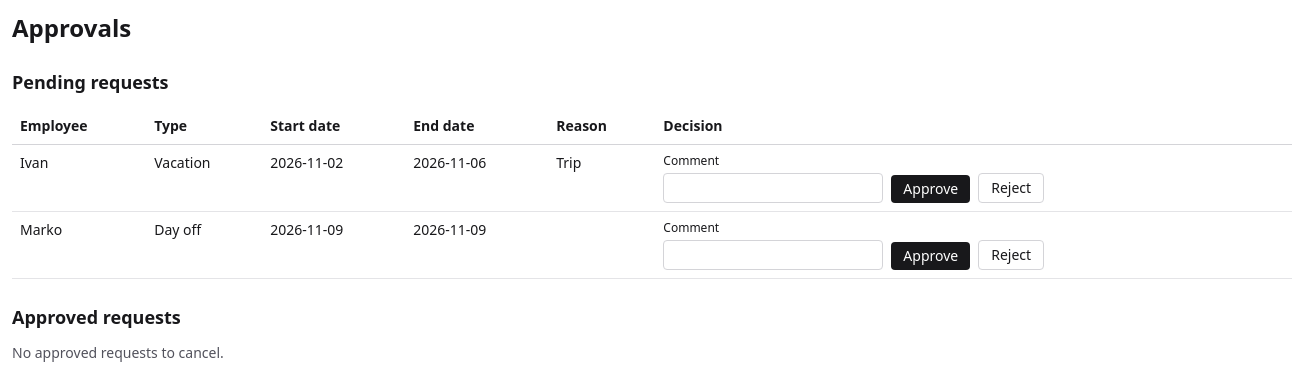
Scenario: ApprovalsScreen › Approve sends the comment from its own row and the row disappears (R1)
This screenshot has width=1292, height=379.
Step 1. Type "not this one" into the field labelled "Comment" below "2026-11-06" → (773, 188), box left=663, top=173, right=883, bottom=203
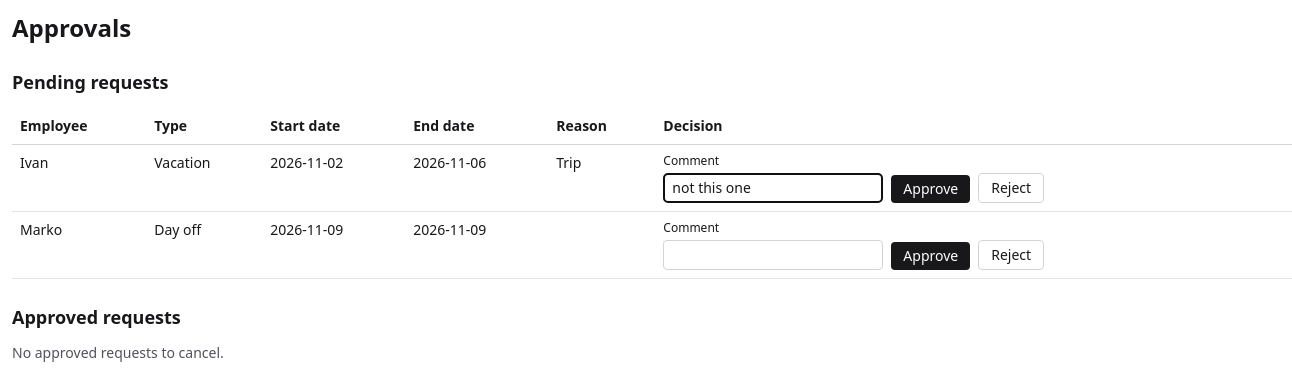
Step 2. Type "ok" into the 2nd field labelled "Comment" → (773, 255), box left=663, top=240, right=883, bottom=270
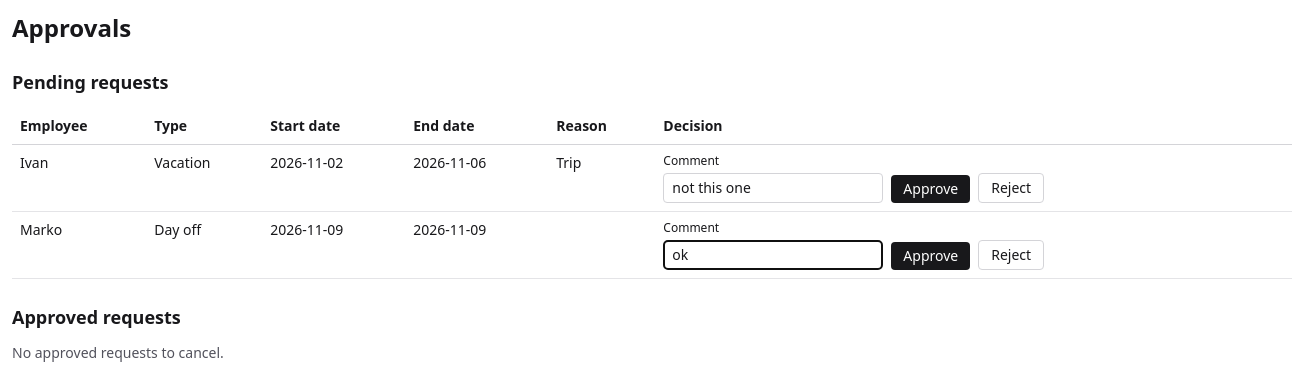
Step 3. Click the 2nd button "Approve" → click(931, 256), box left=891, top=242, right=970, bottom=270
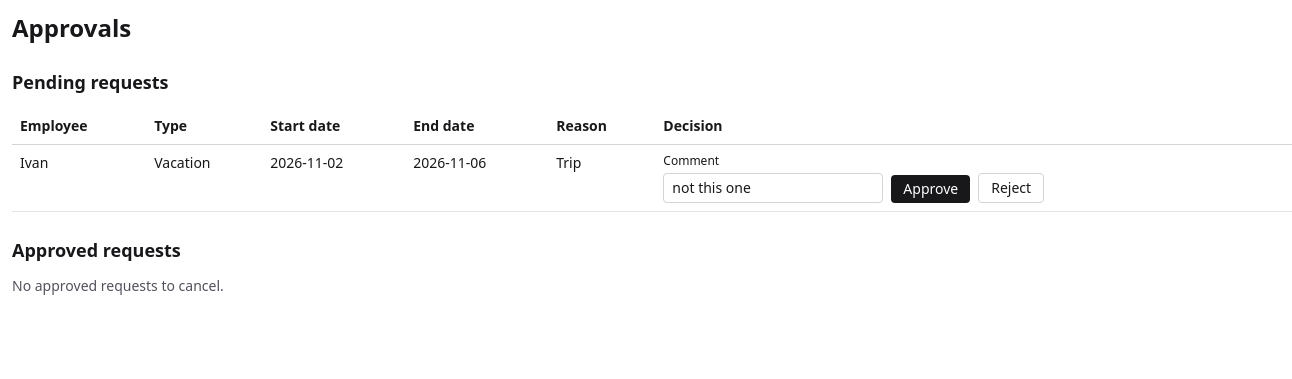
Expected: the text "Ivan" is shown, left=12, top=144, right=146, bottom=212
Now the text "Marko" is gone
